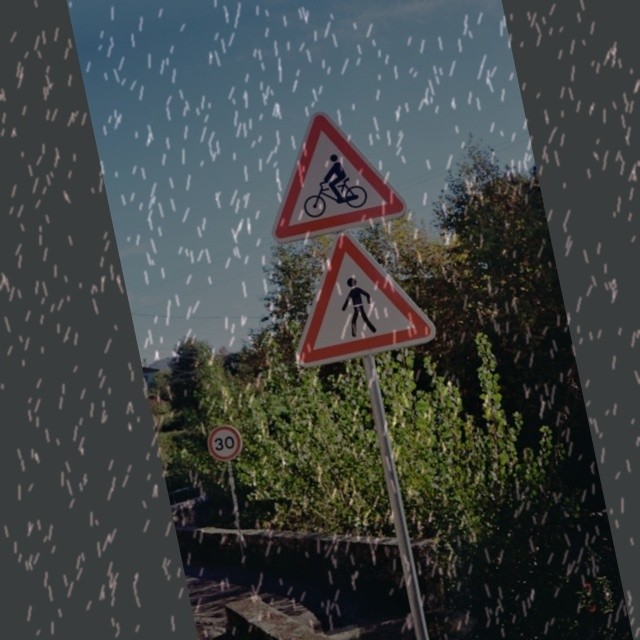Cycle_Crossing: (258, 100, 413, 244)
